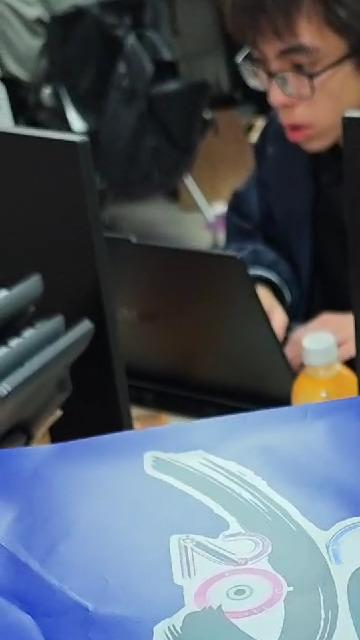B_R1: (159, 413, 360, 640)
